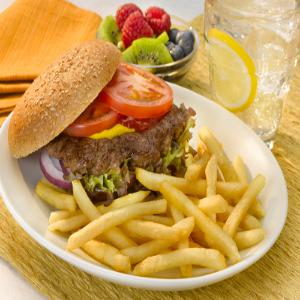cheeseburger_475cal: (7, 49, 198, 202)
fries_350cal: (43, 133, 280, 280)
